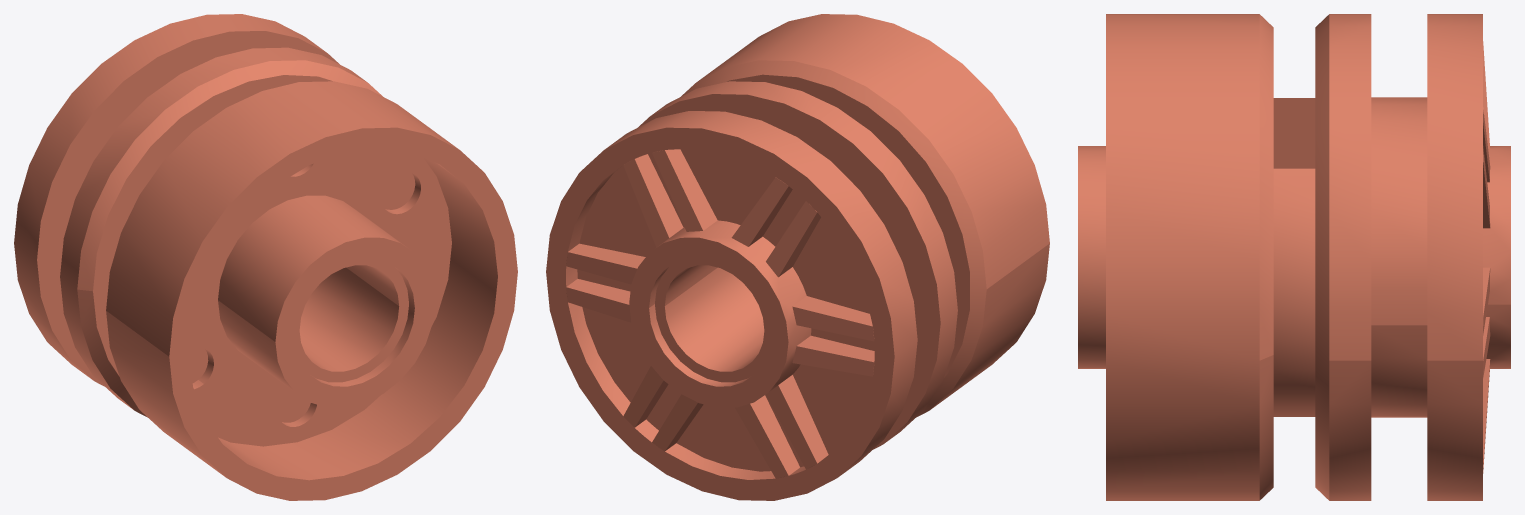
3 views of the same model, side by side, from view 1: azimuth 30°, elevation 25°; view 2: azimuth 150°, elevation 25°; view 3: azimuth 270°, elevation 25° (orthographic). The views are drawn at different scales.
Parts seen in each view (by area): view 1: [pivoted]; view 2: [pivoted]; view 3: [pivoted].
Boxes of the visible parts, x1,y1,x2,y2 form: [pivoted]: [14, 14, 517, 500]; [pivoted]: [546, 14, 1049, 500]; [pivoted]: [1078, 14, 1510, 500].
Size of the model in its own units: 1.75 by 1.74 by 1.55.
